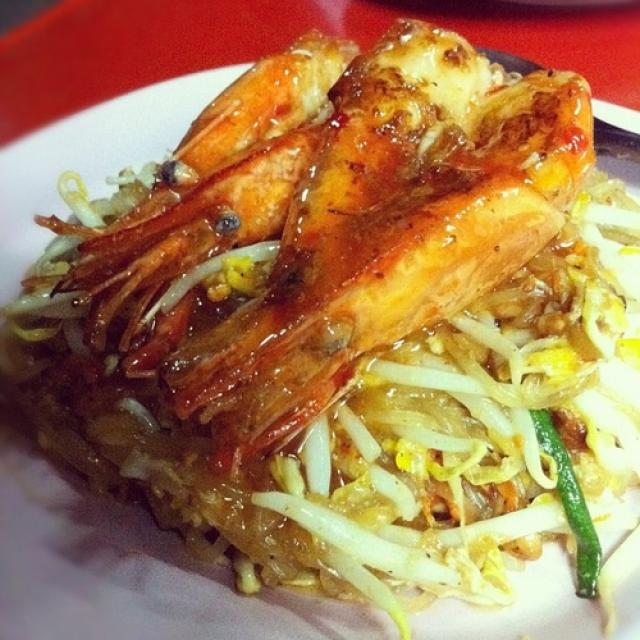炸货点心: (9, 11, 630, 624)
蛋糕甜品: (9, 11, 630, 624)
